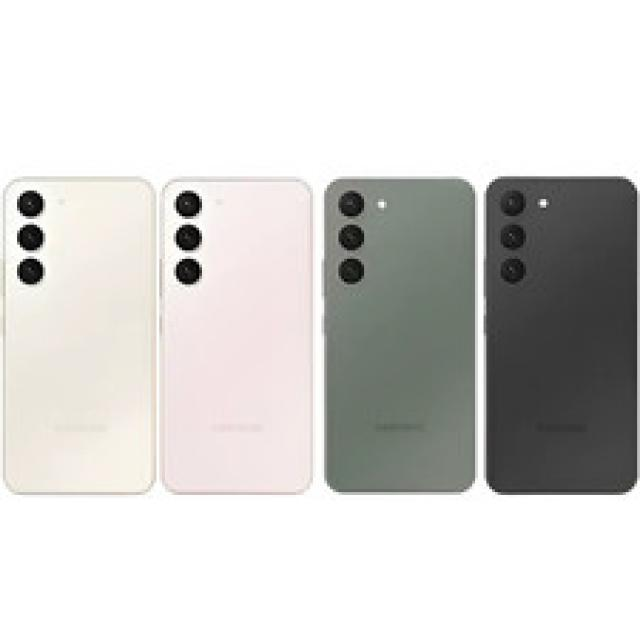mobile_phone: (143, 171, 323, 507), (481, 167, 636, 513), (325, 170, 477, 508), (6, 174, 146, 514)
